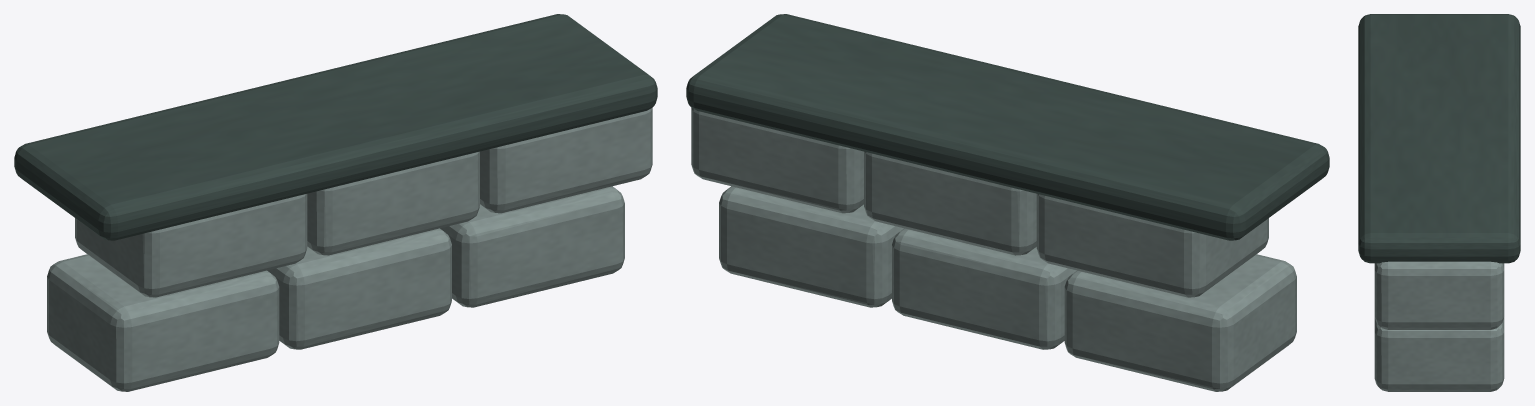
File: SM_bank_segment_LOD1.fbx
3 renders of one model, left to right at view 1: azimuth 30°, elevation 25°; view 2: azimuth 150°, elevation 25°; view 3: azimuth 270°, elevation 25°, orthographic. The views are drawn at different scales.
Parts seen in each view (by area): view 1: SM_bank_segment_LOD1; view 2: SM_bank_segment_LOD1; view 3: SM_bank_segment_LOD1.
Boxes of the visible parts, left/top/right/bottom form: SM_bank_segment_LOD1: left=14, top=14, right=657, bottom=391; SM_bank_segment_LOD1: left=686, top=14, right=1329, bottom=391; SM_bank_segment_LOD1: left=1358, top=14, right=1520, bottom=391.
Bounding box in the file's own units: 2.02 × 0.6 × 0.685.
